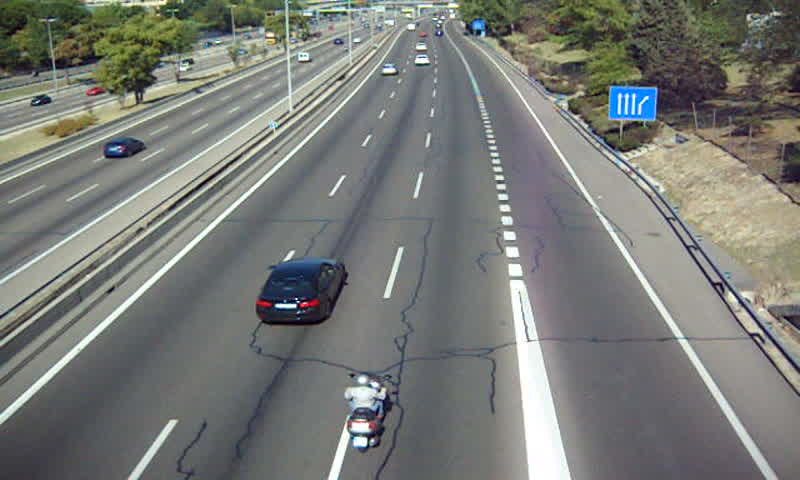car: (256, 258, 345, 321), (380, 62, 396, 77), (413, 54, 432, 66)
motorcycle: (343, 373, 391, 455)
